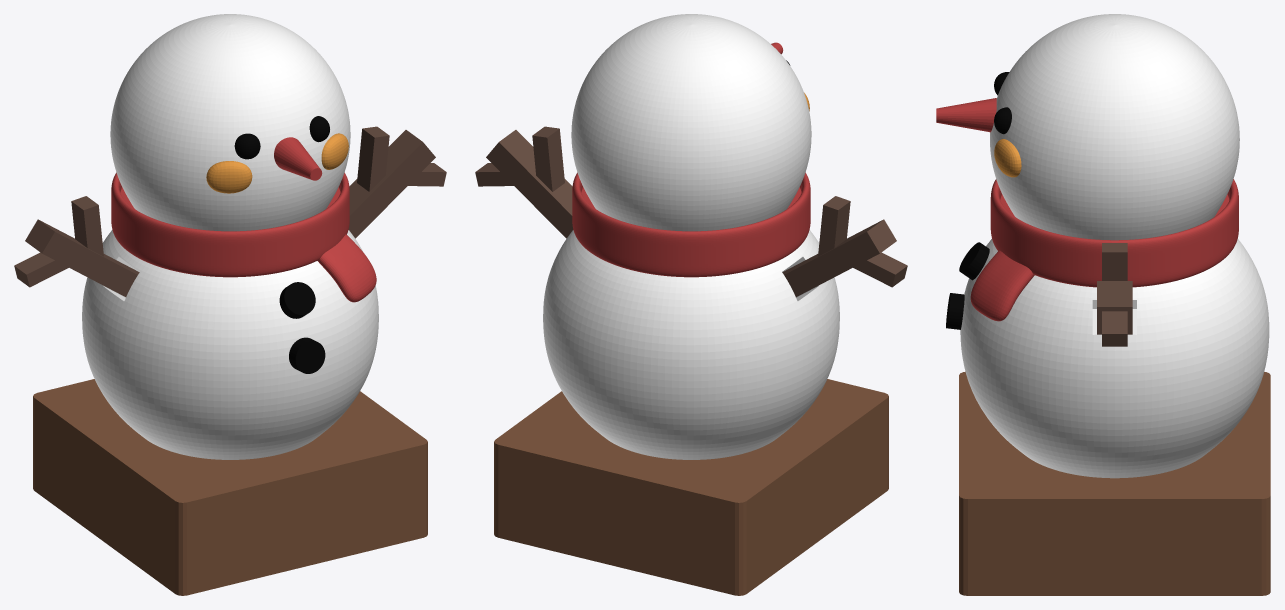
Rendered from cap_snow.glb.
3 renders of one model, left to right at view 1: azimuth 30°, elevation 25°; view 2: azimuth 150°, elevation 25°; view 3: azimuth 270°, elevation 25°, orthographic. The views are drawn at different scales.
Parts seen in each view (by area): view 1: Cube.079, Sphere.002, Sphere.003, Circle.034, Plane.057, Plane.058, Circle.039, Cylinder.001, Cube.196, Plane.059, Cylinder, Cube.184; view 2: Cube.079, Sphere.002, Sphere.003, Circle.034, Plane.057, Plane.058, Plane.059; view 3: Sphere.002, Cube.079, Sphere.003, Circle.034, Circle.039, Cylinder, Plane.057, Cylinder.001, Plane.058, Plane.059, Cube.196, Cube.184.
Part boxes in pixels (box(x1,y1,x2,y2)): Cube.079: box(33, 379, 427, 595); Sphere.002: box(82, 230, 378, 459); Sphere.003: box(110, 14, 350, 231); Circle.034: box(111, 172, 349, 277); Plane.057: box(25, 130, 435, 296); Plane.058: box(71, 126, 389, 256); Circle.039: box(317, 234, 376, 302); Cylinder.001: box(279, 282, 325, 373); Cube.196: box(206, 133, 348, 193); Plane.059: box(14, 163, 446, 287); Cylinder: box(274, 137, 322, 180); Cube.184: box(234, 116, 329, 159); Cube.079: box(494, 379, 888, 595); Sphere.002: box(543, 230, 839, 459); Sphere.003: box(571, 14, 811, 231); Circle.034: box(572, 172, 810, 277); Plane.057: box(486, 130, 896, 296); Plane.058: box(532, 126, 850, 256); Plane.059: box(475, 163, 907, 287); Sphere.002: box(960, 238, 1269, 478); Cube.079: box(959, 371, 1270, 595); Sphere.003: box(990, 14, 1239, 240); Circle.034: box(990, 179, 1238, 287); Circle.039: box(970, 250, 1034, 321); Cylinder: box(936, 98, 996, 132); Plane.057: box(1097, 281, 1132, 334); Cylinder.001: box(946, 242, 989, 329); Plane.058: box(1102, 243, 1127, 280); Plane.059: box(1102, 311, 1127, 346); Cube.196: box(994, 139, 1021, 177); Cube.184: box(994, 72, 1011, 134).
Size of the model in its own units: 28.36 by 31.41 by 18.78.
